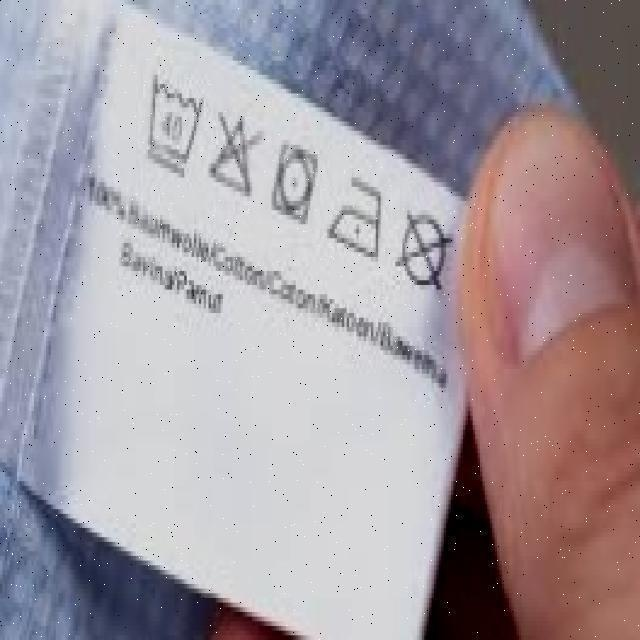40C: (134, 77, 206, 172)
DN_bleach: (204, 113, 265, 198)
DN_dry_clean: (392, 208, 456, 294)
iron_low: (326, 176, 388, 259)
tumble_dry_low: (267, 144, 321, 223)
